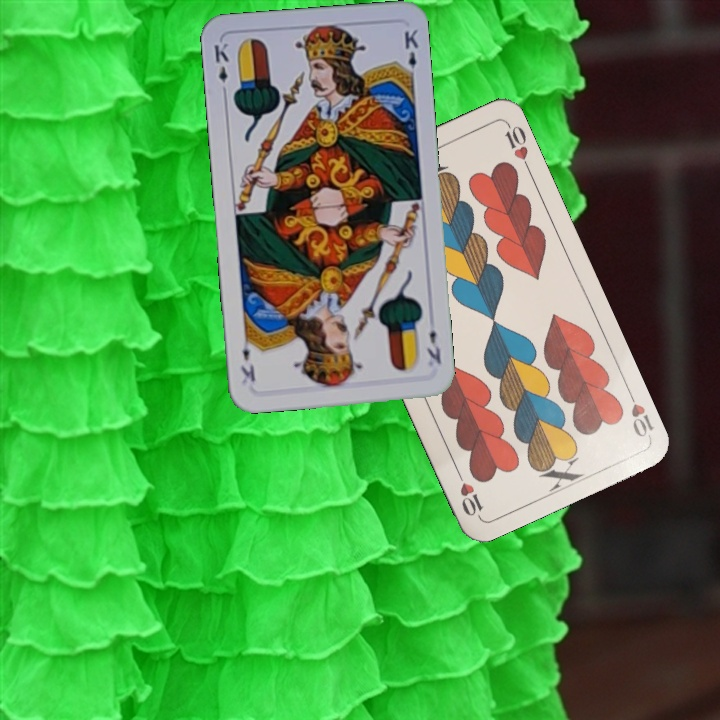EK: (210, 39, 231, 98), (423, 326, 444, 367)
H10: (623, 385, 656, 440)
